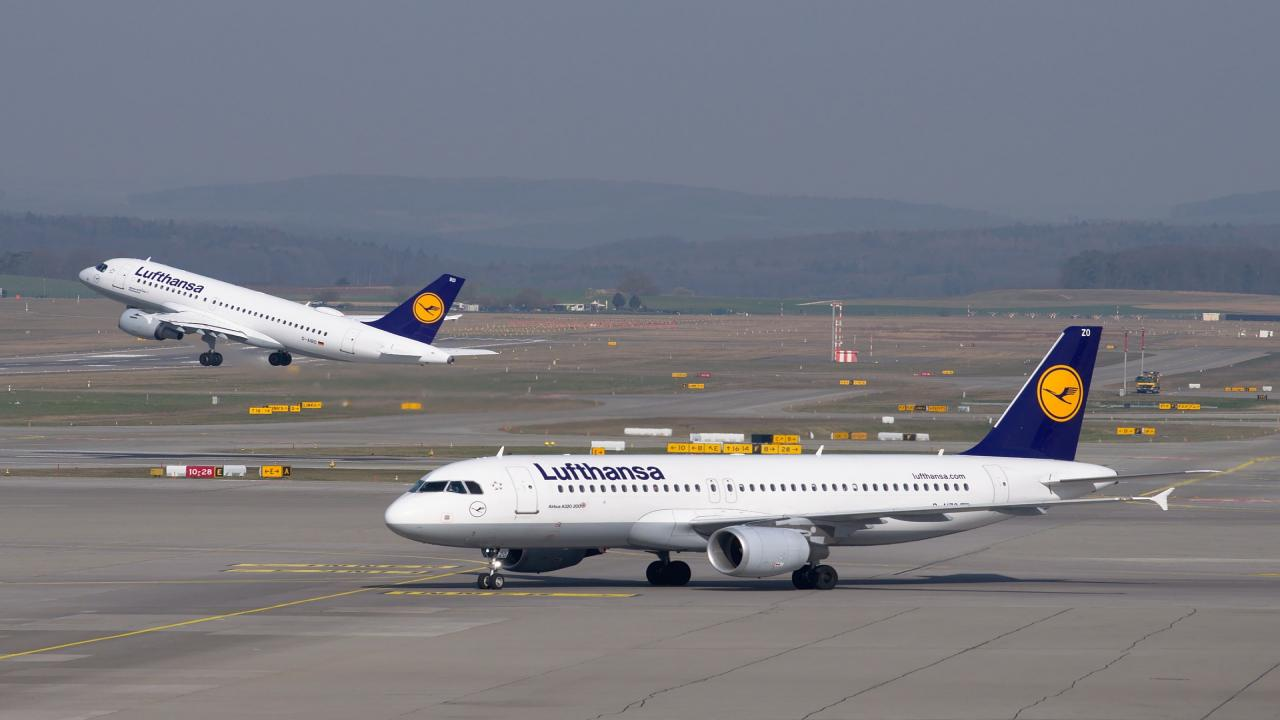Airplane: (370, 315, 1188, 605), (63, 248, 510, 378)
